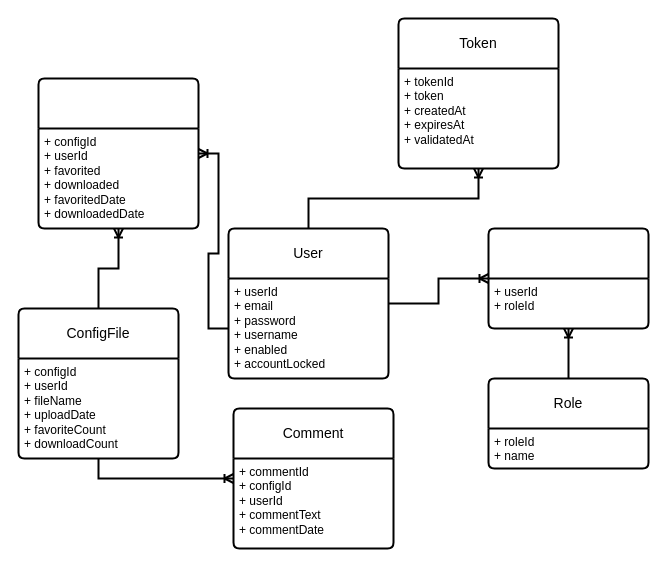
Some shapes in this 666 by 566 pixel diagram are drawn without their labels. The box of each missing label's shape, as (x1, y1, x2, y2) in pixels:
ConfigFileHistory: (37, 77, 199, 229)
User_Role: (487, 227, 649, 329)
